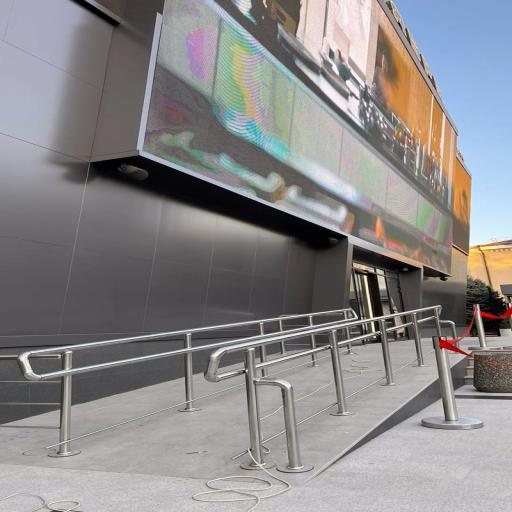entrance: (0, 296, 482, 494)
